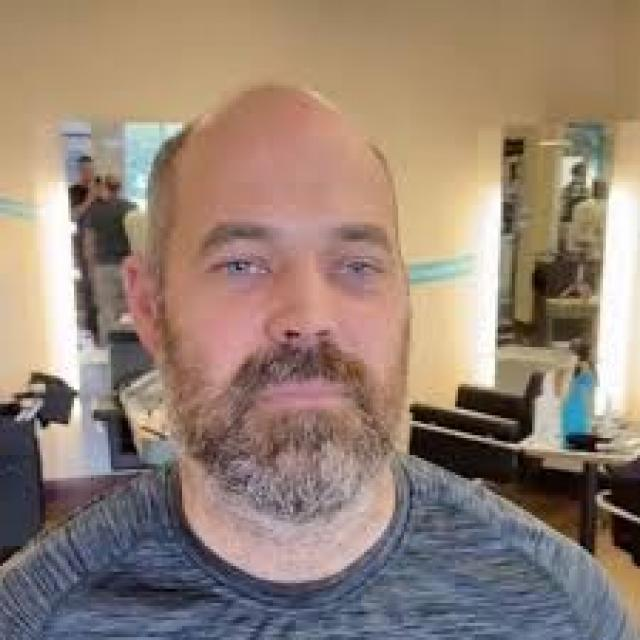bald: (130, 67, 420, 271)
